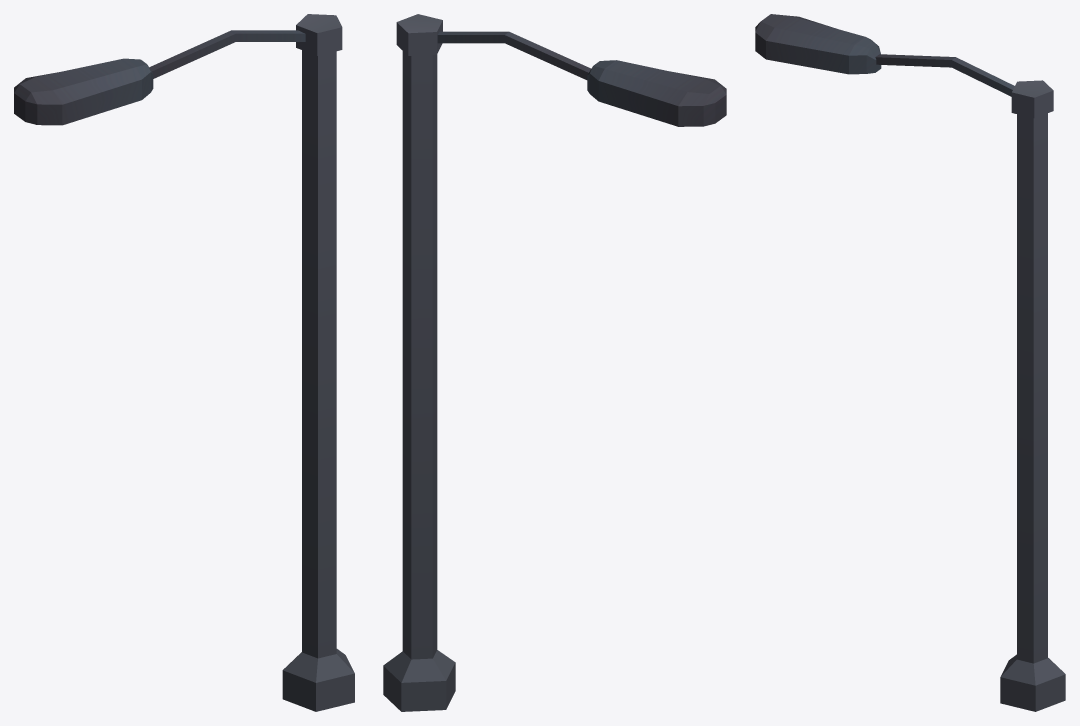
Rendered from SM_Street_Light_1.FBX.
3 renders of one model, left to right at view 1: azimuth 30°, elevation 25°; view 2: azimuth 150°, elevation 25°; view 3: azimuth 330°, elevation 25°, orthographic. The views are drawn at different scales.
Parts seen in each view (by area): view 1: SM_Street_Light_1; view 2: SM_Street_Light_1; view 3: SM_Street_Light_1.
Part boxes in pixels (x1,y1,x2,y2): SM_Street_Light_1: [14, 14, 354, 711]; SM_Street_Light_1: [383, 14, 726, 711]; SM_Street_Light_1: [755, 14, 1065, 711].
Size of what is drawn, in the model's own units: 420 by 81.87 by 828.
